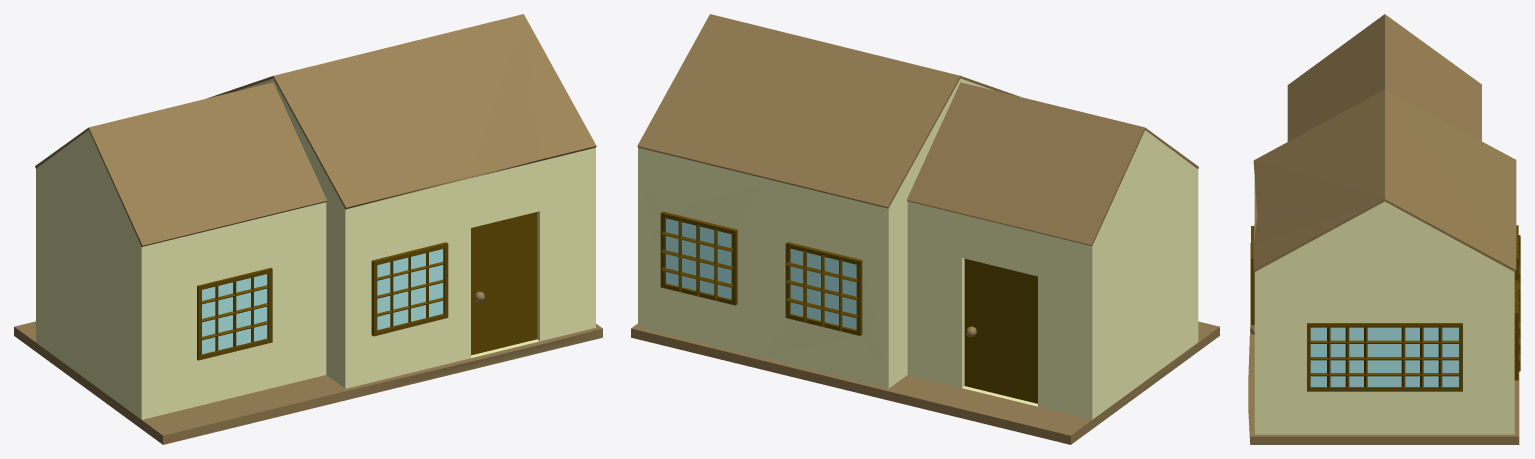
Rendered from Low_Poly_Village_House.glb.
The picture shows the model from 3 angles, left to right: view 1: azimuth 30°, elevation 25°; view 2: azimuth 150°, elevation 25°; view 3: azimuth 270°, elevation 25°; orthographic projection. The views are drawn at different scales.
Visible parts, largest first — view 1: House_01 - Default_0, House_03 - Default_0, House_02 - Default_0, House_07 - Default_0; view 2: House_01 - Default_0, House_03 - Default_0, House_02 - Default_0, House_07 - Default_0; view 3: House_03 - Default_0, House_01 - Default_0, House_07 - Default_0, House_02 - Default_0.
Part boxes in pixels (left/top/right/bottom): House_01 - Default_0: left=36, top=78, right=595, bottom=419; House_03 - Default_0: left=14, top=14, right=602, bottom=444; House_02 - Default_0: left=197, top=212, right=537, bottom=360; House_07 - Default_0: left=202, top=249, right=443, bottom=354; House_01 - Default_0: left=638, top=78, right=1198, bottom=419; House_03 - Default_0: left=631, top=14, right=1219, bottom=444; House_02 - Default_0: left=660, top=211, right=1037, bottom=403; House_07 - Default_0: left=666, top=218, right=856, bottom=329; House_03 - Default_0: left=1248, top=14, right=1519, bottom=444; House_01 - Default_0: left=1254, top=201, right=1514, bottom=434; House_07 - Default_0: left=1310, top=327, right=1458, bottom=386; House_02 - Default_0: left=1251, top=225, right=1520, bottom=391.
Bounding box in the file's own units: 715 × 420 × 425.
Materials: 4 (4 with a texture image).
